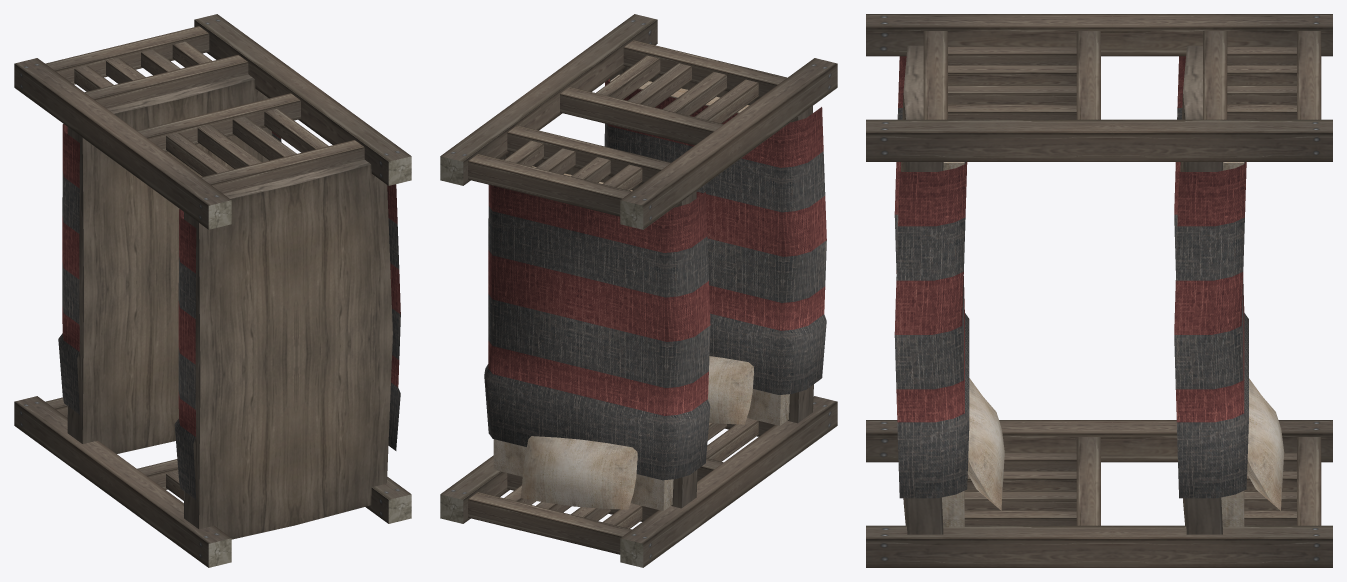
Rendered from Bed_Bunk_B.fbx.
3 renders of one model, left to right at view 1: azimuth 30°, elevation 25°; view 2: azimuth 150°, elevation 25°; view 3: azimuth 270°, elevation 25°, orthographic. The views are drawn at different scales.
Parts seen in each view (by area): view 1: Bed_Bunk_B; view 2: Bed_Bunk_B; view 3: Bed_Bunk_B.
Boxes of the visible parts, <box> form: Bed_Bunk_B: <box>14,14,411,567</box>; Bed_Bunk_B: <box>440,14,837,567</box>; Bed_Bunk_B: <box>866,14,1332,567</box>.
Size of the model in its own units: 2.23 by 3.73 by 3.62.
